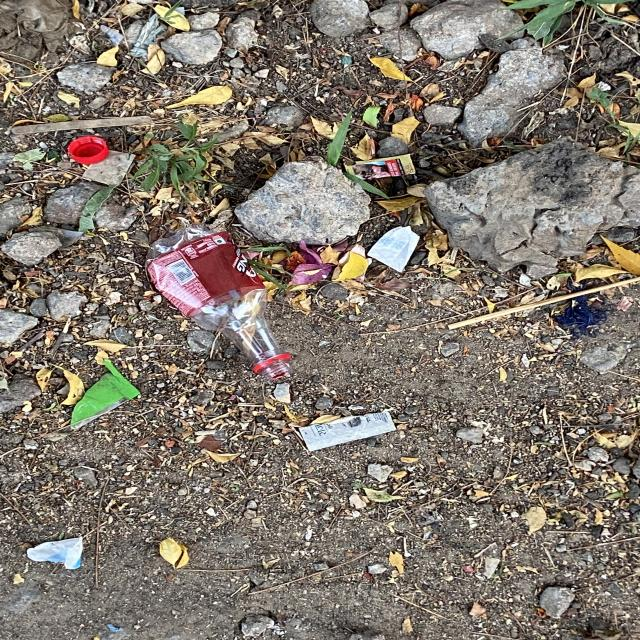paper: (347, 153, 415, 179)
plastic: (146, 224, 294, 379), (367, 226, 420, 272), (25, 538, 81, 570), (66, 135, 108, 164)
wrapper: (69, 359, 139, 430), (299, 412, 396, 452)
